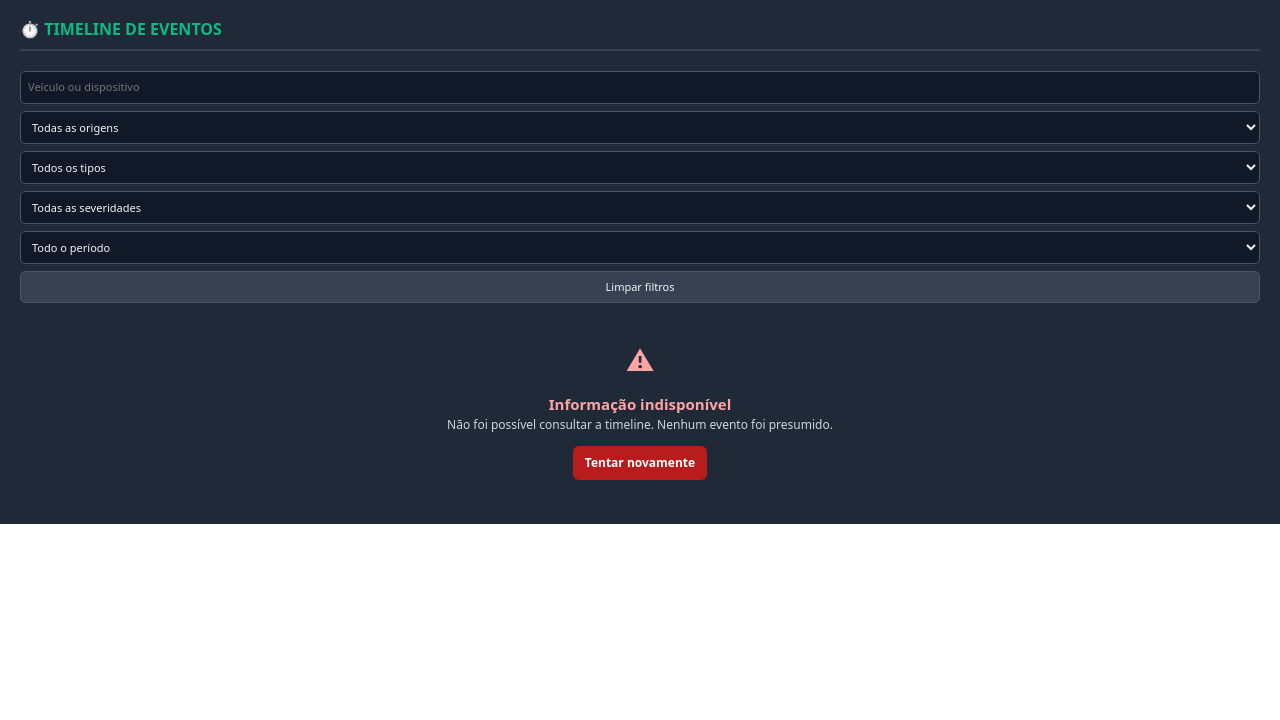
Test: mostra erro e permite repetir a consulta
The width and height of the screenshot is (1280, 720).
Click the button "Tentar novamente".
click(640, 463)  # box [573,446,707,480]
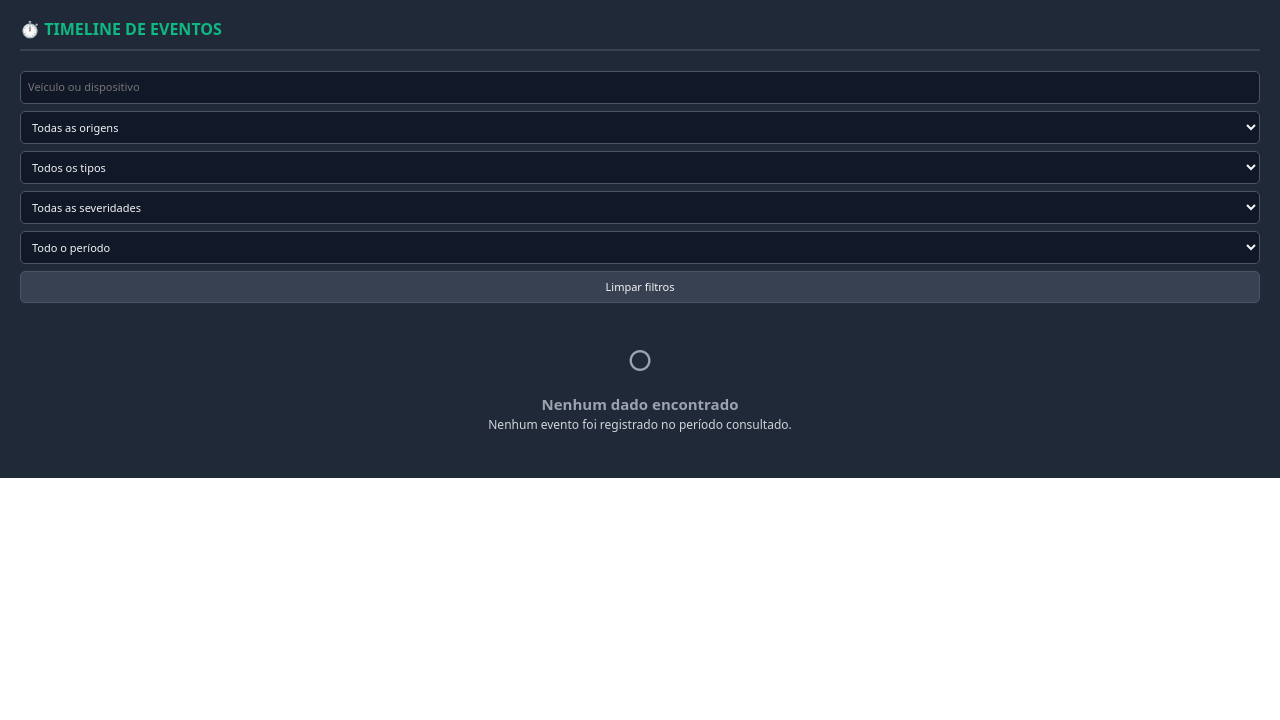
Expected: the text "Nenhum evento foi registrado no período consultado." is shown, [488,416,792,434]
